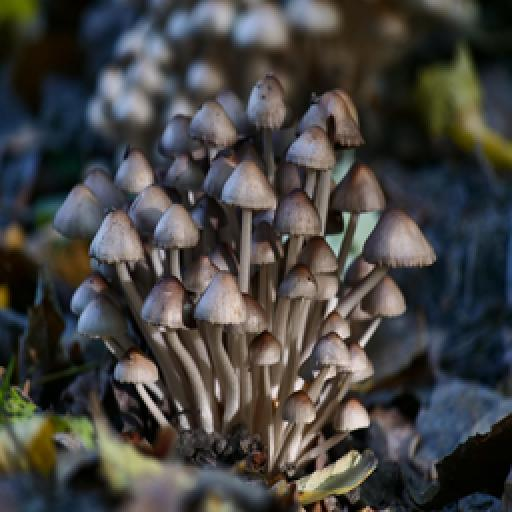mushrooms: (212, 158, 280, 294), (84, 206, 152, 340), (190, 272, 254, 406), (188, 230, 250, 366), (368, 204, 438, 314), (244, 72, 290, 238), (300, 88, 362, 210), (52, 172, 114, 290), (328, 160, 386, 286), (192, 98, 238, 238), (130, 184, 178, 314), (138, 274, 190, 392), (284, 232, 336, 348), (156, 198, 202, 328), (68, 274, 122, 380), (352, 262, 408, 364), (286, 124, 336, 238), (274, 186, 324, 300), (156, 108, 202, 230), (248, 266, 292, 392), (152, 158, 202, 266), (98, 148, 144, 260), (246, 330, 286, 436), (308, 264, 346, 368), (112, 352, 168, 422), (314, 332, 360, 414), (340, 302, 374, 376), (328, 396, 374, 448), (72, 310, 110, 370), (290, 380, 324, 440)
